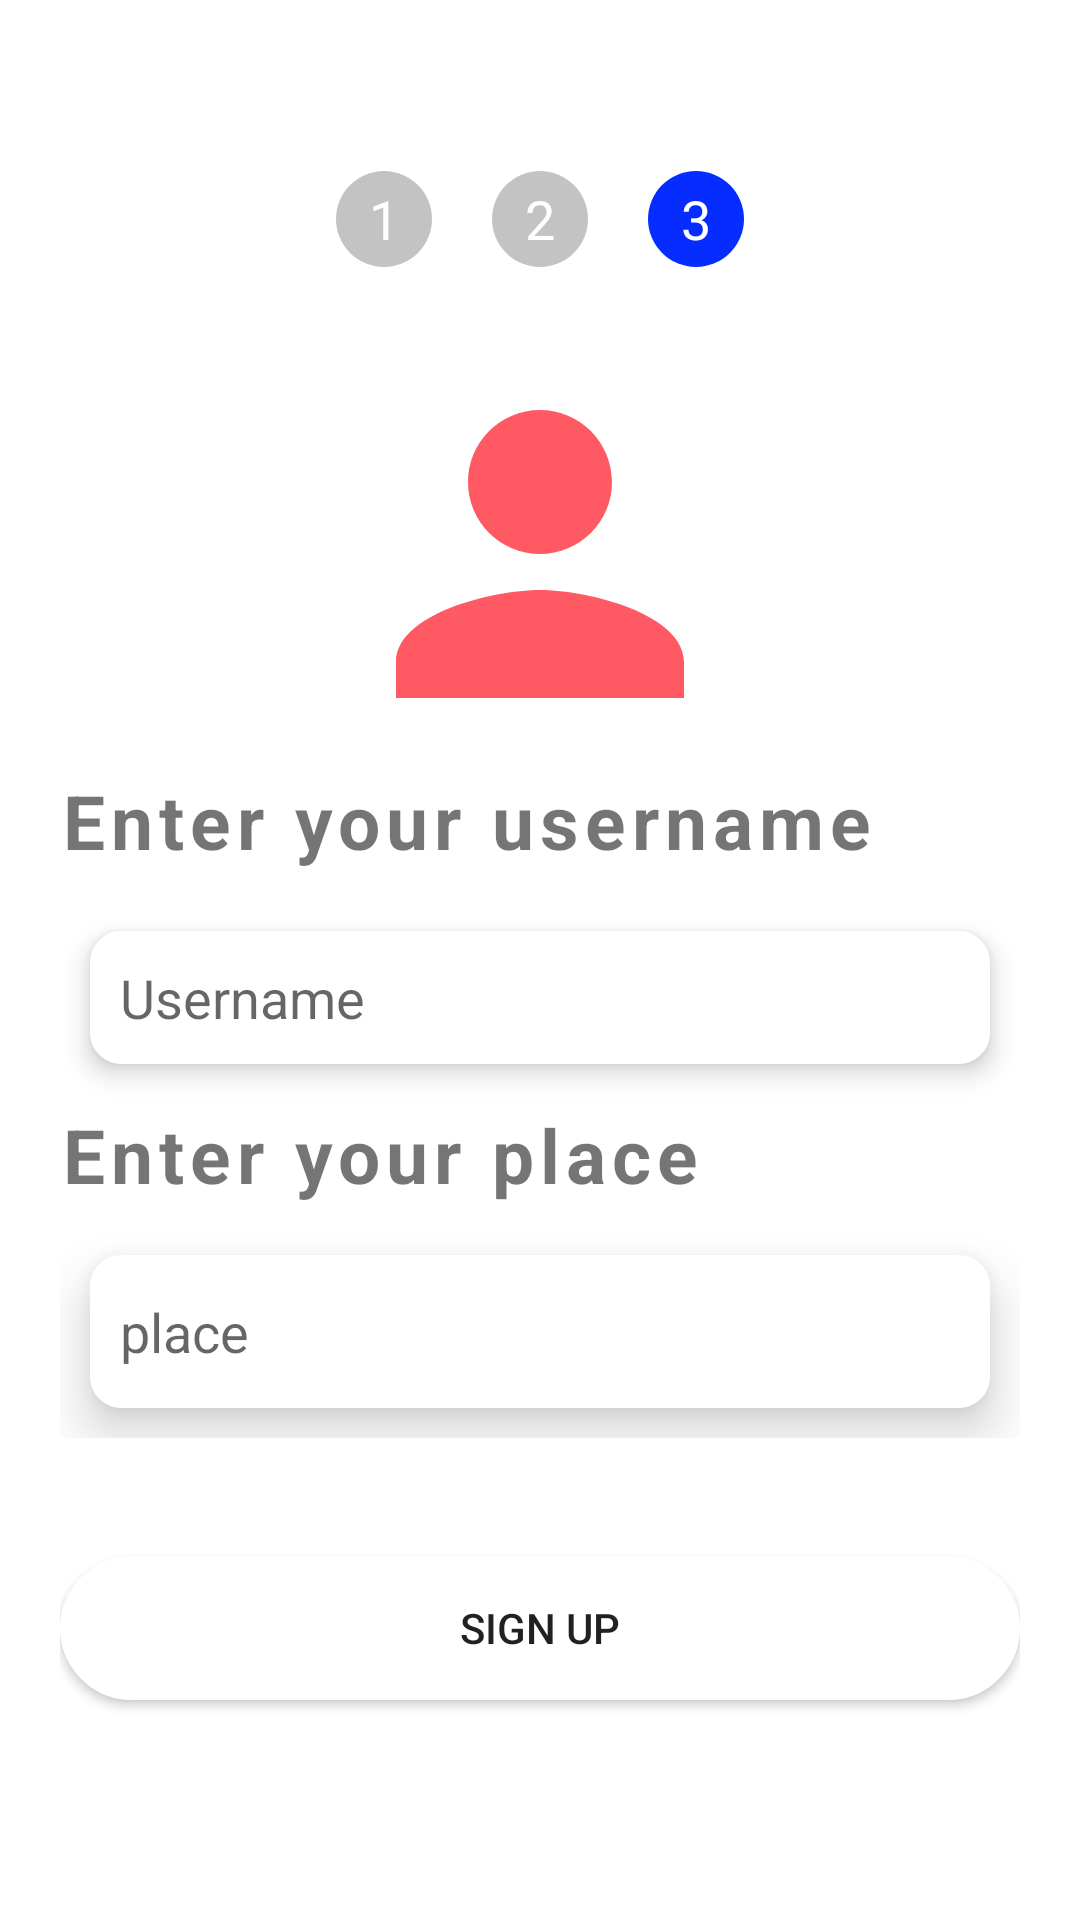

Icon click points for this 1080 x 1920 phone screenshot, format (x,y):
person: (540,554)
